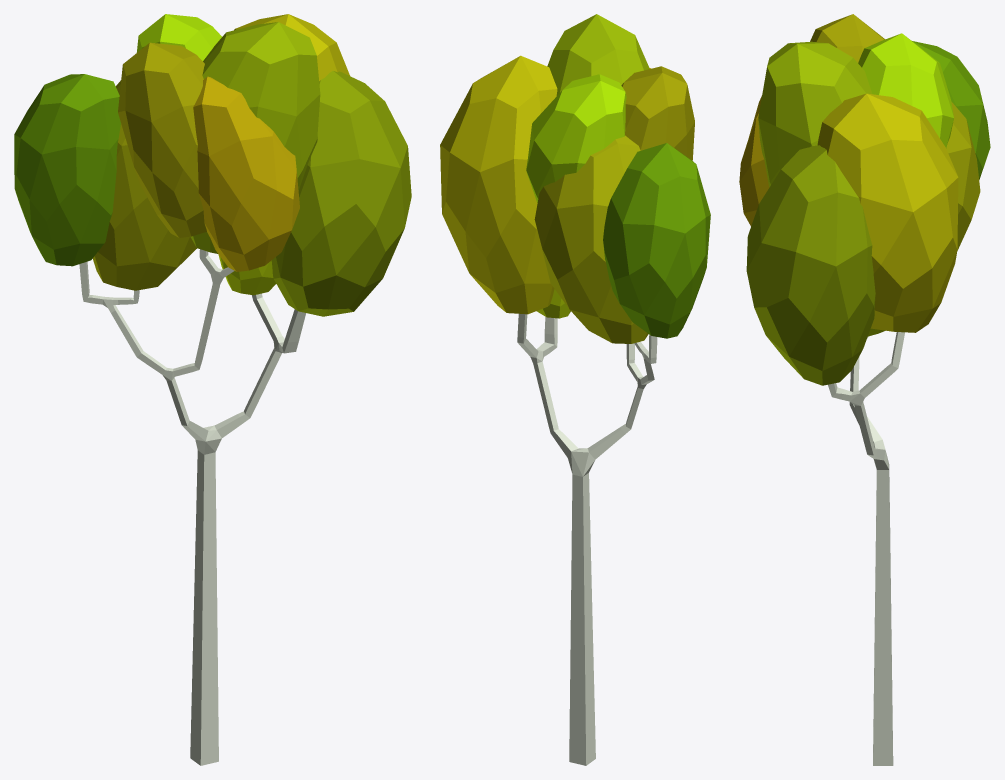
Rendered from bigBirchTree.glb.
The picture shows the model from 3 angles, left to right: view 1: azimuth 30°, elevation 25°; view 2: azimuth 150°, elevation 25°; view 3: azimuth 270°, elevation 25°; orthographic projection. The views are drawn at different scales.
Visible parts, largest first — view 1: Cube; view 2: Cube; view 3: Cube.
Boxes of the visible parts, left/top/right/bottom form: Cube: left=14, top=14, right=411, bottom=765; Cube: left=440, top=14, right=710, bottom=765; Cube: left=739, top=14, right=990, bottom=765.
Bounding box in the file's own units: 4.41 × 10 × 3.11.
